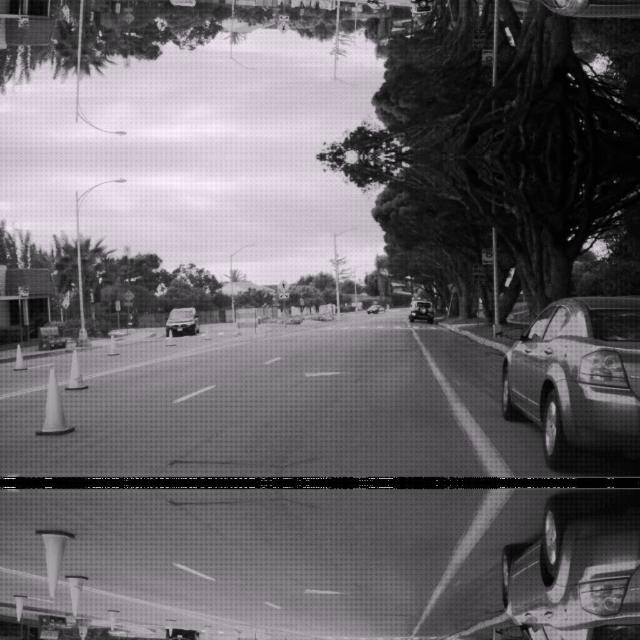pedestrianCrossing: (276, 278, 290, 292), (276, 20, 290, 34)
